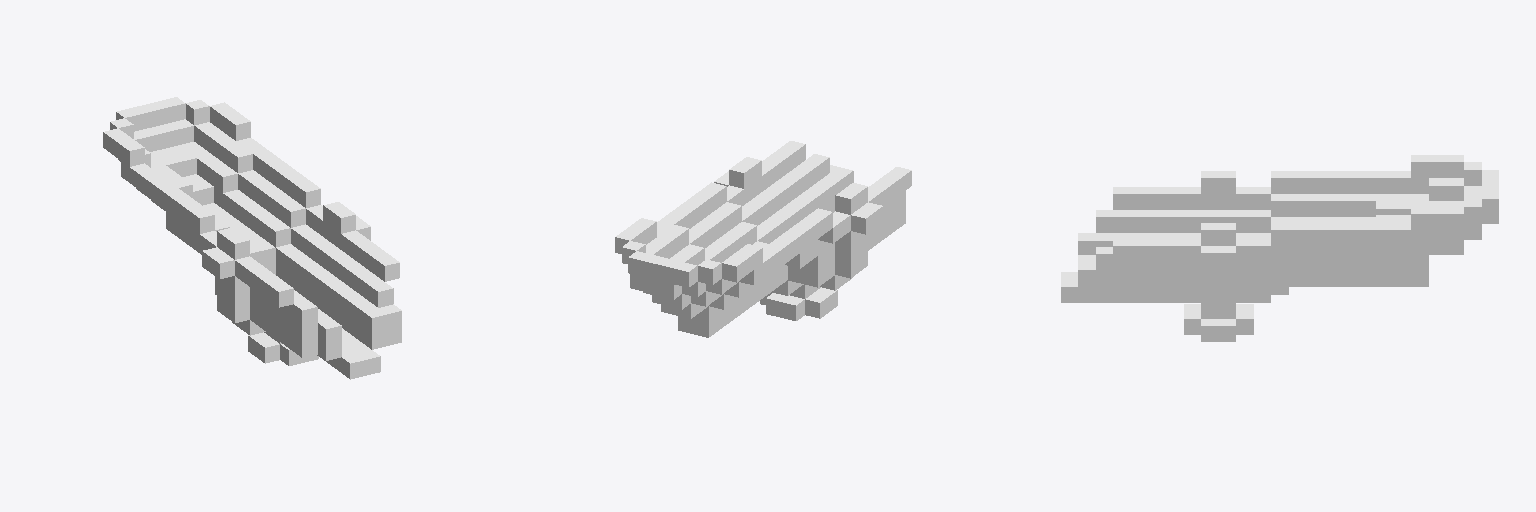
File: plant_bean_top.obj
3 renders of one model, left to right at view 1: azimuth 30°, elevation 25°; view 2: azimuth 150°, elevation 25°; view 3: azimuth 270°, elevation 25°, orthographic.
Parts seen in each view (by area): view 1: object 1; view 2: object 1; view 3: object 1.
Boxes of the visible parts, x1=… form: object 1: x1=103, y1=97, x2=401, y2=379; object 1: x1=615, y1=141, x2=911, y2=337; object 1: x1=1061, y1=155, x2=1498, y2=341.
Bounding box in the file's own units: 1 × 0.9 × 2.5.